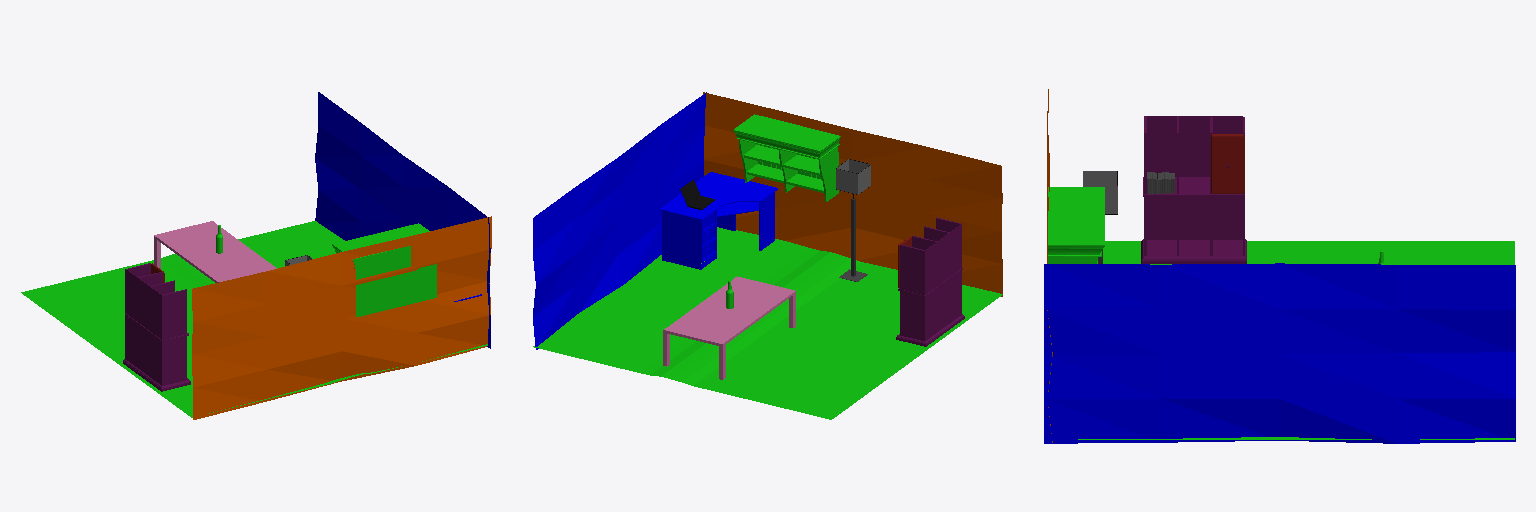
robot.urdf — room:
<?xml version="1.0"?>
<robot name="room">
  <material name="White">
    <color rgba="0.9 0.9 0.9 1"/>
  </material>
  <material name="Blue">
    <color rgba="0 0 1 1"/>
  </material>
  <material name="Red">
    <color rgba="1 0 0 1"/>
  </material>
  <material name="Green">
    <color rgba="0.1 0.8 0.1 1"/>
  </material>
  <material name="Gray">
    <color rgba="0.6 0.6 0.6 1"/>
  </material>
  <material name="Black">
    <color rgba="0.1 0.1 0.1 1"/>
  </material>
     
  <link name="room_base">
    <visual>
      <origin xyz="0 0 0" rpy="0 0 0"/>
      <geometry>
        <box size="0.01 0.01 0.01"/>
      </geometry>
      <material name="Red"/>
    </visual>
  </link>
  
  <joint name="j_desk" type="fixed">
    <parent link="room_base"/>
    <child link="desk_base"/>
    <origin rpy="0 0 0" xyz="0 0 0"/>
  </joint>
        
  <link name="desk_base">
    <visual>
      <origin xyz="2.3 -2.22 0" rpy="0 0 -1.570796327"/>
      <geometry>
        <!--<mesh filename="package://room_description/meshes/bureauAngulaire_sized.dae"/>-->
        <mesh filename="package://room_description/meshes/bureau_angulaire.dae"/>
      </geometry>
      <material name="Blue"/>
    </visual>
    <collision>
      <origin xyz="2.3 -2.22 0" rpy="0 0 -1.570796327"/>
      <geometry>
        <mesh filename="package://room_description/meshes/bureau_angulaire.dae"/>
      </geometry>
    </collision>
  </link>
  

  <joint name="j_pc" type="fixed">
    <parent link="room_base"/>
    <child link="pc_base"/>
    <origin rpy="0 0 0" xyz="0 0 0"/>
  </joint>
        
  <link name="pc_base">
    <visual>
      <origin xyz="2.3 -1.7 1.04" rpy="0 0 -1.570796327"/>
      <geometry>
        <mesh filename="package://room_description/meshes/pc_portable_sized2.dae"/>
      </geometry>
      <material name="Black"/>
    </visual>
    <collision>
      <origin xyz="2.3 -1.7 1.04" rpy="0 0 -1.570796327"/>
      <geometry>
        <mesh filename="package://room_description/meshes/pc_portable_sized2.dae"/>
      </geometry>
    </collision>
  </link>
  
  
  <joint name="j_lamp" type="fixed">
    <parent link="room_base"/>
    <child link="lamp_base"/>
    <origin rpy="0 0 0" xyz="0 0 0"/>
  </joint>
        
  <link name="lamp_base">
    <visual>
      <origin xyz="-0.4 -2.3 0.04" rpy="0 0 0"/>
      <geometry>
        <mesh filename="package://room_description/meshes/lampe_a_pied_sized2.dae"/>
      </geometry>
    </visual>
    <collision>
      <origin xyz="-0.4 -2.3 0.04" rpy="0 0 0"/>
      <geometry>
        <mesh filename="package://room_description/meshes/lampe_a_pied_sized2.dae"/>
      </geometry>
    </collision>
  </link>
  
  
  <joint name="j_armchair" type="fixed">
    <parent link="room_base"/>
    <child link="armchair_base"/>
    <origin rpy="0 0 0" xyz="0 0 0"/>
  </joint>
        
  <link name="armchair_base">
    <visual>
      <origin xyz="1.3 1.3 0" rpy="0 0 -1.570796327"/>
      <geometry>
        <mesh filename="package://room_description/meshes/fauteuil_sized2.dae"/>
      </geometry>
    </visual>
    <collision>
      <origin xyz="1.3 1.3 0" rpy="0 0 -1.570796327"/>
      <geometry>
        <mesh filename="package://room_description/meshes/fauteuil_sized2.dae"/>
      </geometry>
    </collision>
  </link>


  <joint name="j_chair" type="fixed">
    <parent link="room_base"/>
    <child link="chair_base"/>
    <origin rpy="0 0 0" xyz="0 0 0"/>
  </joint>
        
  <link name="chair_base">
    <visual>
      <!-- <origin xyz="1.33 -1.78 0" rpy="0 0 1.570796327"/> -->
      <origin xyz="0.13 -1.78 0.04" rpy="0 0 1.570796327"/> <!-- barckward -->
      <geometry>
        <mesh filename="package://room_description/meshes/chaise_bureau2_sized2.dae"/>
      </geometry>
    </visual>
    <collision>
      <!-- <origin xyz="1.33 -1.78 0" rpy="0 0 1.570796327"/> -->
      <origin xyz="0.13 -1.78 0.04" rpy="0 0 1.570796327"/> <!-- barckward -->
      <geometry>
        <mesh filename="package://room_description/meshes/chaise_bureau2_sized2.dae"/>
      </geometry>
    </collision>
  </link>
  
  
  <joint name="j_table" type="fixed">
    <parent link="room_base"/>
    <child link="table_base"/>
    <origin rpy="0 0 0" xyz="0 0 0"/>
  </joint>
        
  <link name="table_base">
    <visual>
      <origin xyz="0 1.3 0.06" rpy="0 0 1.57"/>
      <geometry>
        <!--<mesh filename="package://room_description/meshes/table_basse.dae"/>-->
        <mesh filename="package://room_description/meshes/table_basse_truquee.dae"/>
        <!--<box size="0.9 1.5 0.3" />-->
      </geometry>
    </visual>
    <collision>
      <origin xyz="0 1.3 0.06" rpy="0 0 1.57"/>
      <geometry>
       <mesh filename="package://room_description/meshes/table_basse_truquee.dae"/>
      </geometry>
    </collision>
  </link>
  
  
  <joint name="j_commode" type="fixed">
    <parent link="room_base"/>
    <child link="commode_base"/>
    <origin rpy="0 0 0" xyz="0 0 0"/>
  </joint>
        
  <link name="commode_base">
    <visual>
      <origin xyz="-2.65 -1.1 0" rpy="0 0 1.570796327"/>
      <geometry>
        <mesh filename="package://room_description/meshes/commode_sized2.dae"/>
      </geometry>
    </visual>
    <collision>
      <origin xyz="-2.65 -1.1 0" rpy="0 0 1.570796327"/>
      <geometry>
        <mesh filename="package://room_description/meshes/commode_sized2.dae"/>
      </geometry>
    </collision>
  </link>
  
  
  <joint name="j_books" type="fixed">
    <parent link="room_base"/>
    <child link="books_base"/>
    <origin rpy="0 0 0" xyz="0 0 0"/>
  </joint>
        
  <link name="books_base">
    <visual>
      <origin xyz="-2.5 -1.52 1" rpy="0 0 1.570796327"/>
      <geometry>
        <mesh filename="package://room_description/meshes/vieux_livres_sized.dae"/>
      </geometry>
    </visual>
    <collision>
      <origin xyz="-2.5 -1.52 1" rpy="0 0 1.570796327"/>
      <geometry>
        <mesh filename="package://room_description/meshes/vieux_livres_sized.dae"/>
      </geometry>
    </collision>
  </link>
  
  
  <joint name="j_deskLamp" type="fixed">
    <parent link="room_base"/>
    <child link="deskLamp_base"/>
    <origin rpy="0 0 0" xyz="0 0 0"/>
  </joint>
        
  <link name="deskLamp_base">
    <visual>
      <origin xyz="2.6 -2.1 1.05" rpy="0 0 -1.570796327"/>
      <geometry>
        <mesh filename="package://room_description/meshes/desklamp_sized2.dae"/>
      </geometry>
      <material name="Black"/>
    </visual>
    <collision>
      <origin xyz="2.6 -2.1 1.05" rpy="0 0 -1.570796327"/>
      <geometry>
        <mesh filename="package://room_description/meshes/desklamp_sized2.dae"/>
      </geometry>
    </collision>
  </link>
  
  
  <joint name="j_beer" type="fixed">
    <parent link="room_base"/>
    <child link="beer_base"/>
    <origin rpy="0 0 0" xyz="0 0 0"/>
  </joint>
        
  <link name="beer_base">
    <visual>
      <origin xyz="0 1.3 0.8" rpy="0 0 0"/>
      <geometry>
        <mesh filename="package://room_description/meshes/beer_sized2.dae"/>
      </geometry>
      <material name="Green"/>
    </visual>
    <collision>
      <origin xyz="0 1.3 0.8" rpy="0 0 0"/>
      <geometry>
        <mesh filename="package://room_description/meshes/beer_sized2.dae"/>
        <!--<mesh filename="package://room_description/meshes/beer_bottle.dae"/>-->
      </geometry>
    </collision>
  </link>
  
  
  <joint name="j_stuff" type="fixed">
    <parent link="room_base"/>
    <child link="stuff_base"/>
    <origin rpy="0 0 0" xyz="0 0 0"/>
  </joint>
        
  <link name="stuff_base">
    <visual>
      <origin xyz="1.1 -2.6 1.2" rpy="0 0 1.570796327"/>
      <geometry>
        <!--<mesh filename="package://room_description/meshes/etagere_bois_sized2.dae"/>-->
        <mesh filename="package://room_description/meshes/etagere_bois2.dae"/>
      </geometry>
      <material name="Green"/>
    </visual>
    <collision>
      <origin xyz="1.1 -2.6 1.2" rpy="0 0 1.570796327"/>
      <geometry>
        <mesh filename="package://room_description/meshes/etagere_bois2.dae"/>
      </geometry>
    </collision>
  </link>

  <joint name="j_carpet" type="fixed">
    <parent link="room_base"/>
    <child link="l_carpet"/>
    <origin rpy="0 0 0" xyz="0 0 0"/>
  </joint>
        
  <link name="l_carpet">
    <visual>
      <origin xyz="0 0 0" rpy="0 0 0"/>
      <geometry>
        <mesh filename="package://room_description/meshes/carpet.dae"/>
      </geometry>
      <material name="Green"/>
    </visual>
    <collision>
      <origin xyz="0 0 0" rpy="0 0 0"/>
      <geometry>
        <mesh filename="package://room_description/meshes/carpet.dae"/>
      </geometry>
    </collision>
  </link>

  <joint name="j_carpet_wall_one" type="fixed">
    <parent link="room_base"/>
    <child link="l_carpet_wall_one"/>
    <origin rpy="0 0 0" xyz="0 0 0"/>
  </joint>
        
  <link name="l_carpet_wall_one">
    <inertial>
      <origin xyz="0 0 0" rpy="0 0 0"/>
      <mass value="1.0" />
      <inertia  ixx="1.0" ixy="0.0"  ixz="0.0"  iyy="1.0"  iyz="0.0"  izz="1.0" />
    </inertial>
    <visual>
      <origin xyz="0 -3 1.25" rpy="-1.57 0 0"/>
      <geometry>
        <mesh filename="package://room_description/meshes/wall_carpet.dae"/>
      </geometry>
    </visual>
    <collision>
      <origin xyz="0 -3 1.25" rpy="-1.57 0 0"/>
      <geometry>
        <mesh filename="package://room_description/meshes/wall_carpet.dae"/>
      </geometry>
    </collision>
  </link>

  <joint name="j_carpet_wall_two" type="fixed">
    <parent link="room_base"/>
    <child link="l_carpet_wall_two"/>
    <origin rpy="0 0 0" xyz="0 0 0"/>
  </joint>
        
  <link name="l_carpet_wall_two">
    <inertial>
      <origin xyz="0 0 0" rpy="0 0 0"/>
      <mass value="1.0" />
      <inertia  ixx="1.0" ixy="0.0"  ixz="0.0"  iyy="1.0"  iyz="0.0"  izz="1.0" />
    </inertial>
    <visual>
      <origin xyz="3 0 1.25" rpy="-1.57 0 1.57"/>
      <geometry>
        <mesh filename="package://room_description/meshes/wall_carpet.dae"/>
      </geometry>
      <material name="Blue"/>
    </visual>
    <collision>
      <origin xyz="3 0 1.25" rpy="-1.57 0 1.57"/>
      <geometry>
        <mesh filename="package://room_description/meshes/wall_carpet.dae"/>
      </geometry>
    </collision>
  </link>
</robot>

--- What the picture shows (computed from the rendered views, not written in the file) ---
The picture shows the robot from 3 angles, left to right: view 1: azimuth 30°, elevation 25°; view 2: azimuth 150°, elevation 25°; view 3: azimuth 270°, elevation 25°; orthographic projection.
Robot: room — 15 links, 14 joints (14 fixed); root link room_base; default pose: all joints at 0.
Visible links, largest first — view 1: l_carpet_wall_one, l_carpet_wall_two, l_carpet, commode_base, stuff_base, table_base; view 2: l_carpet, l_carpet_wall_one, l_carpet_wall_two, commode_base, desk_base, stuff_base, table_base, lamp_base; view 3: l_carpet_wall_two, commode_base, l_carpet, stuff_base, lamp_base, books_base.
Boxes of the visible links, left/top/right/bottom form: l_carpet_wall_one: left=192, top=216, right=491, bottom=419; l_carpet_wall_two: left=315, top=92, right=490, bottom=348; l_carpet: left=21, top=221, right=487, bottom=417; commode_base: left=123, top=263, right=190, bottom=391; stuff_base: left=332, top=223, right=436, bottom=316; table_base: left=154, top=221, right=276, bottom=282; l_carpet: left=533, top=227, right=1002, bottom=419; l_carpet_wall_one: left=703, top=92, right=1002, bottom=296; l_carpet_wall_two: left=533, top=92, right=706, bottom=349; commode_base: left=896, top=218, right=964, bottom=346; desk_base: left=660, top=172, right=777, bottom=269; stuff_base: left=733, top=114, right=840, bottom=201; table_base: left=663, top=276, right=795, bottom=379; lamp_base: left=836, top=159, right=870, bottom=281; l_carpet_wall_two: left=1044, top=263, right=1515, bottom=443; commode_base: left=1141, top=116, right=1246, bottom=263; l_carpet: left=1078, top=241, right=1514, bottom=439; stuff_base: left=1048, top=187, right=1104, bottom=263; lamp_base: left=1083, top=171, right=1117, bottom=263; books_base: left=1147, top=172, right=1174, bottom=193.
Bounding box of the posed robot: 6.04 × 6.02 × 2.53 m (x, y, z).
11 mesh visuals loaded from 13 distinct referenced files (10 Collada DAE); not drawn: 3 (reference not matched to a file when rendering).
